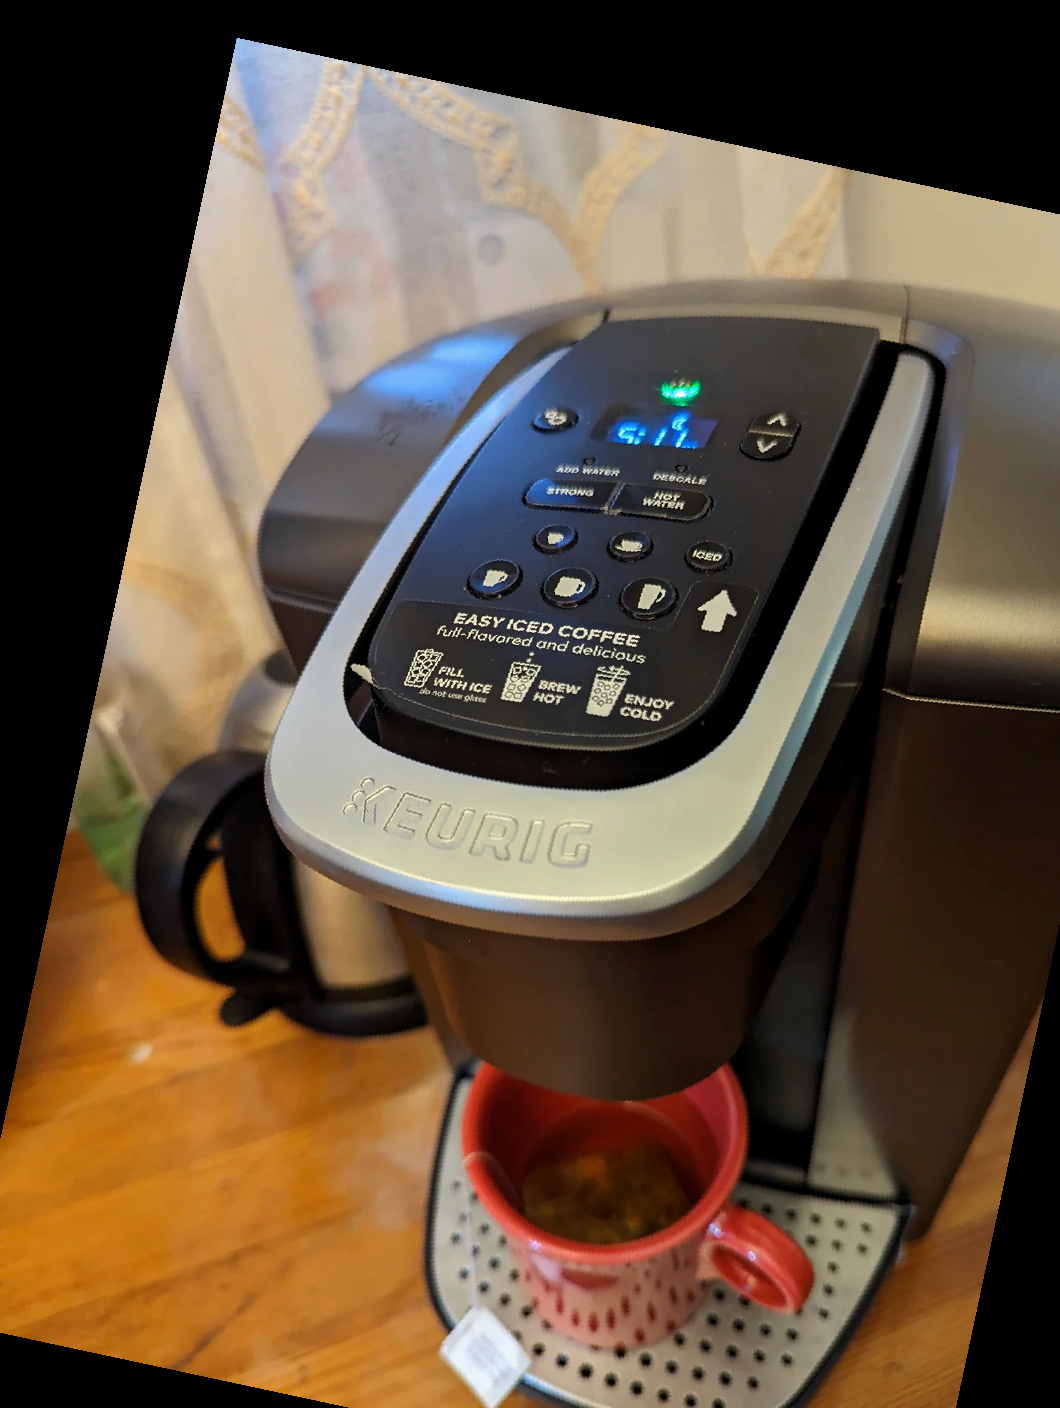10oz: (538, 561, 606, 616)
12oz: (615, 570, 683, 624)
4oz: (524, 519, 582, 557)
6oz: (602, 528, 659, 564)
8oz: (460, 551, 528, 604)
add_water: (551, 445, 622, 484)
descale: (646, 451, 717, 490)
hot: (620, 484, 705, 523)
iced: (679, 531, 737, 578)
power: (644, 366, 713, 410)
strong: (527, 475, 610, 515)
